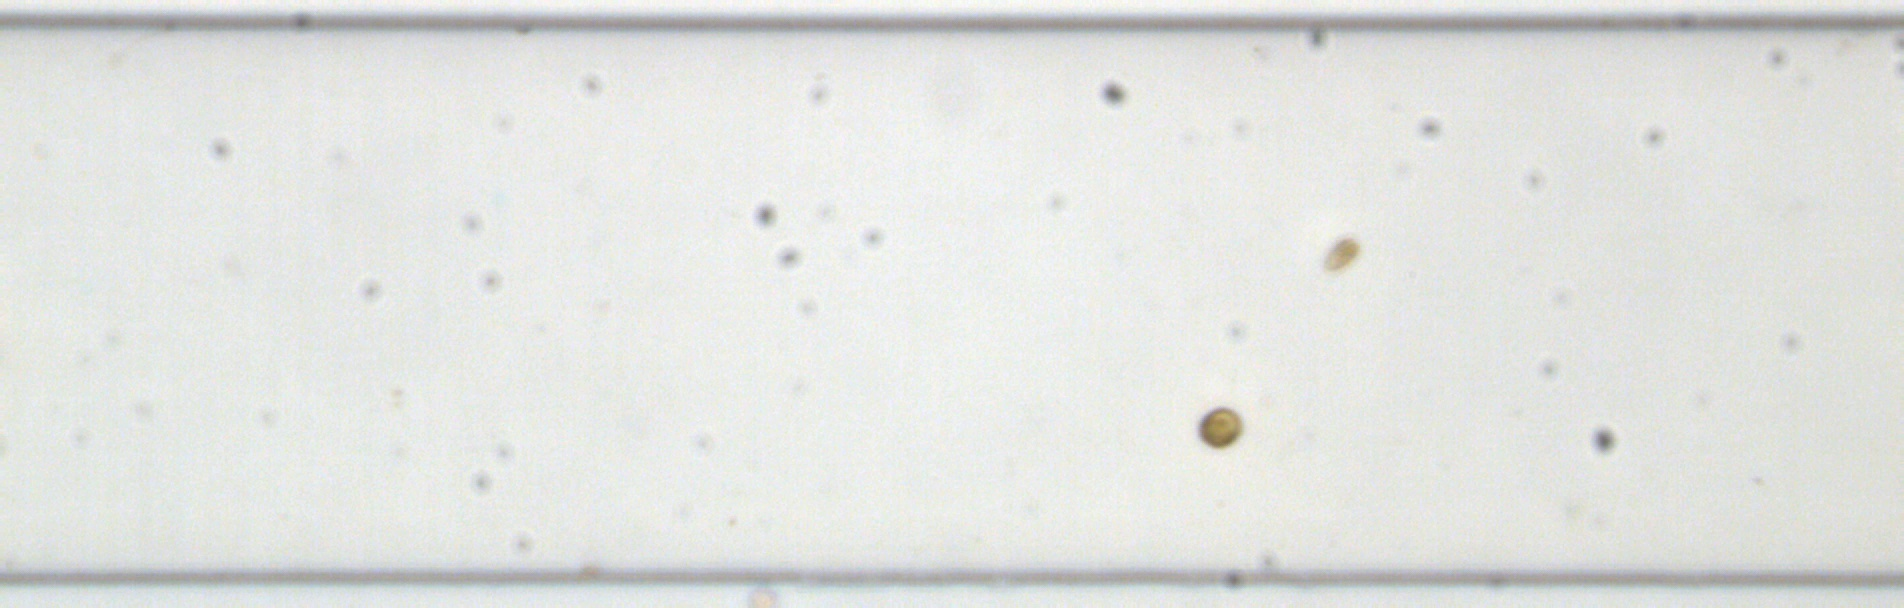Dunaliella salina: (1319, 233, 1362, 275)
Effrenium: (1194, 403, 1243, 449)
